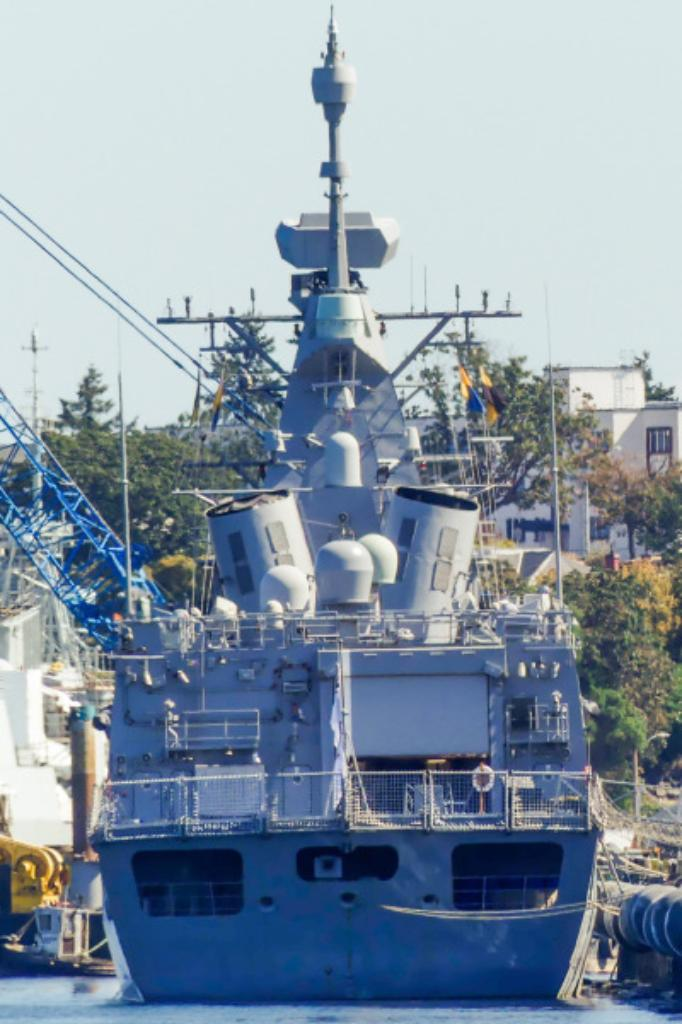Warship: (71, 13, 609, 1007)
